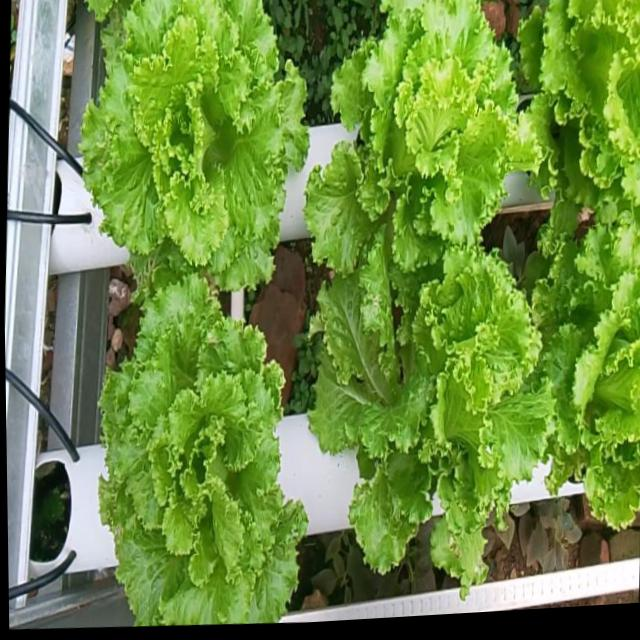Mature: (294, 249, 528, 582), (50, 0, 291, 316), (287, 0, 510, 319), (89, 292, 294, 626), (513, 231, 640, 516), (492, 0, 640, 231)
